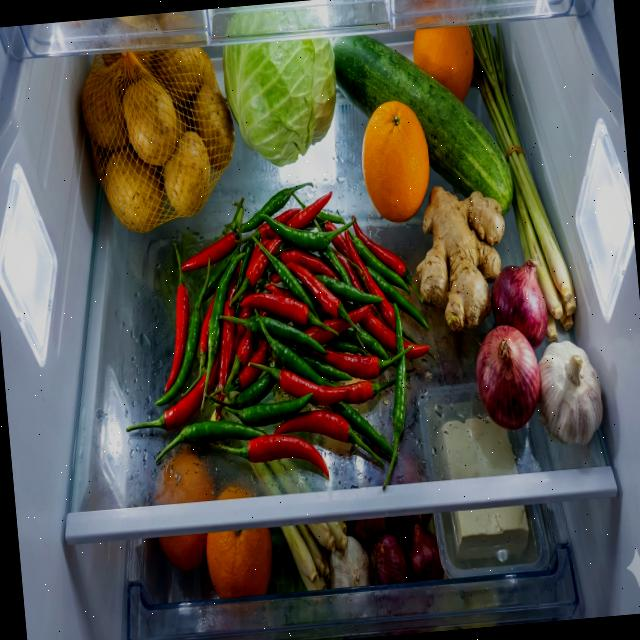cabbage: (217, 0, 344, 171)
chili: (106, 171, 448, 514)
cucumber: (330, 21, 516, 230)
garlic: (326, 533, 372, 590)
ginger: (408, 180, 514, 336), (532, 337, 606, 448)
lemongrass: (470, 16, 580, 348), (248, 453, 352, 595)
onion: (466, 257, 558, 433), (349, 512, 445, 588)
orange: (150, 446, 278, 604), (356, 98, 434, 226), (410, 20, 478, 106)
potato: (76, 40, 242, 236)
tofu: (434, 412, 531, 560)
